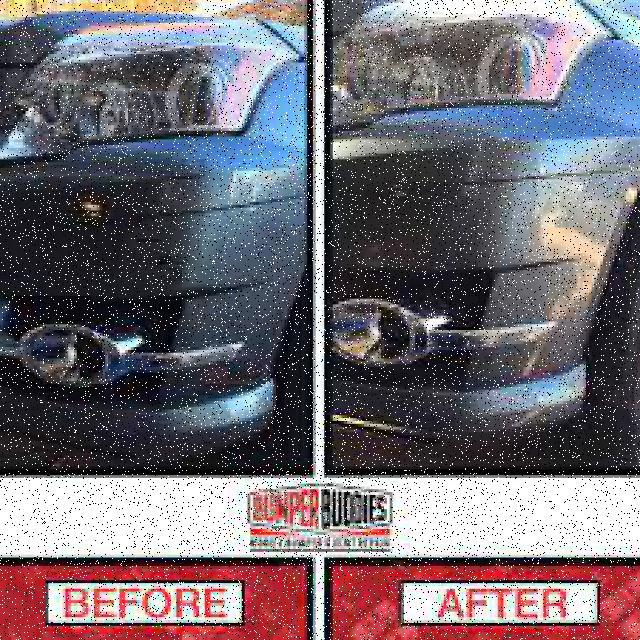front-bumper-dent: (0, 108, 327, 452)
